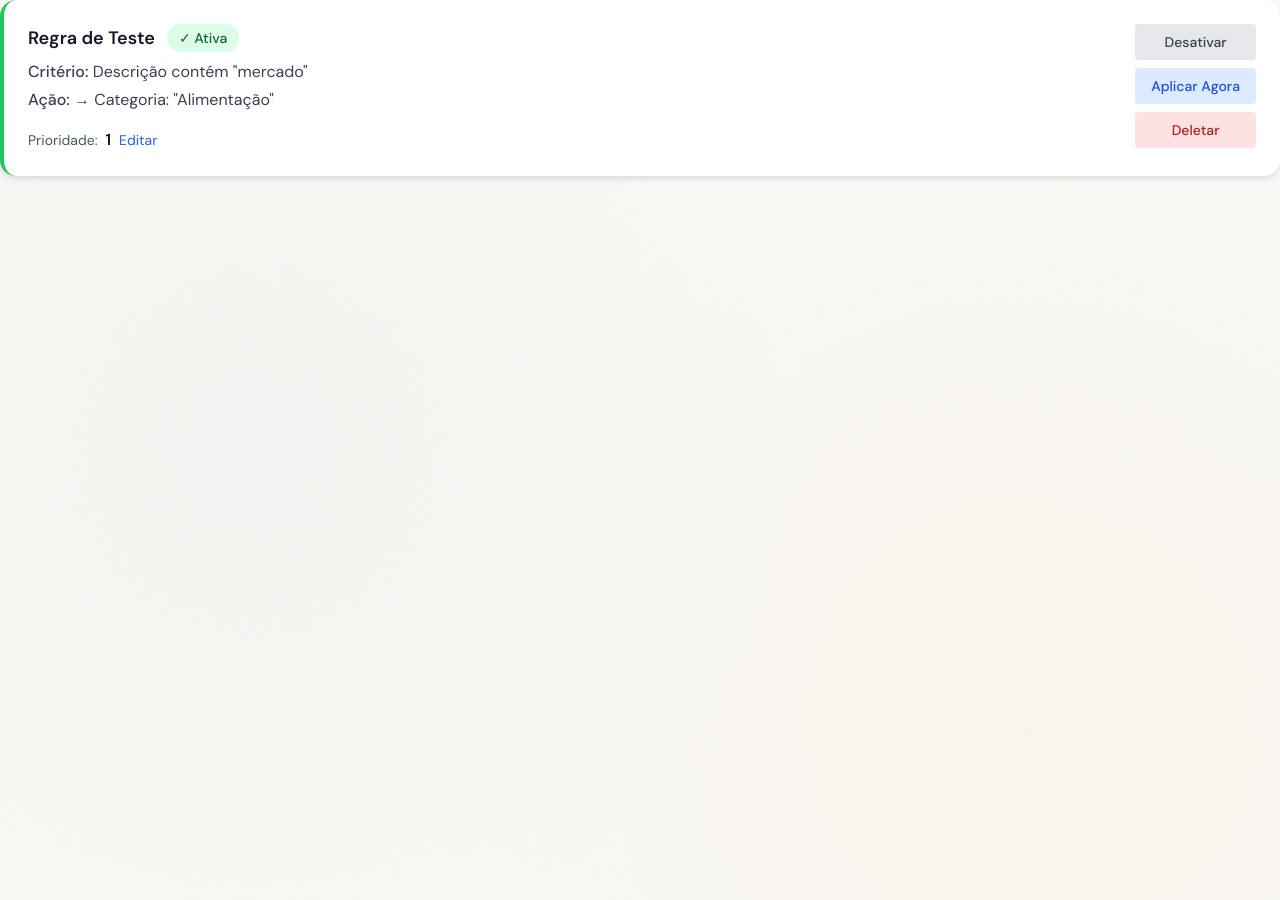
Scenario: ListaRegras › deve abrir modal ao clicar em aplicar
The image size is (1280, 900).
Click the button "Aplicar Agora" at (1196, 86), box [1135,68,1256,104]
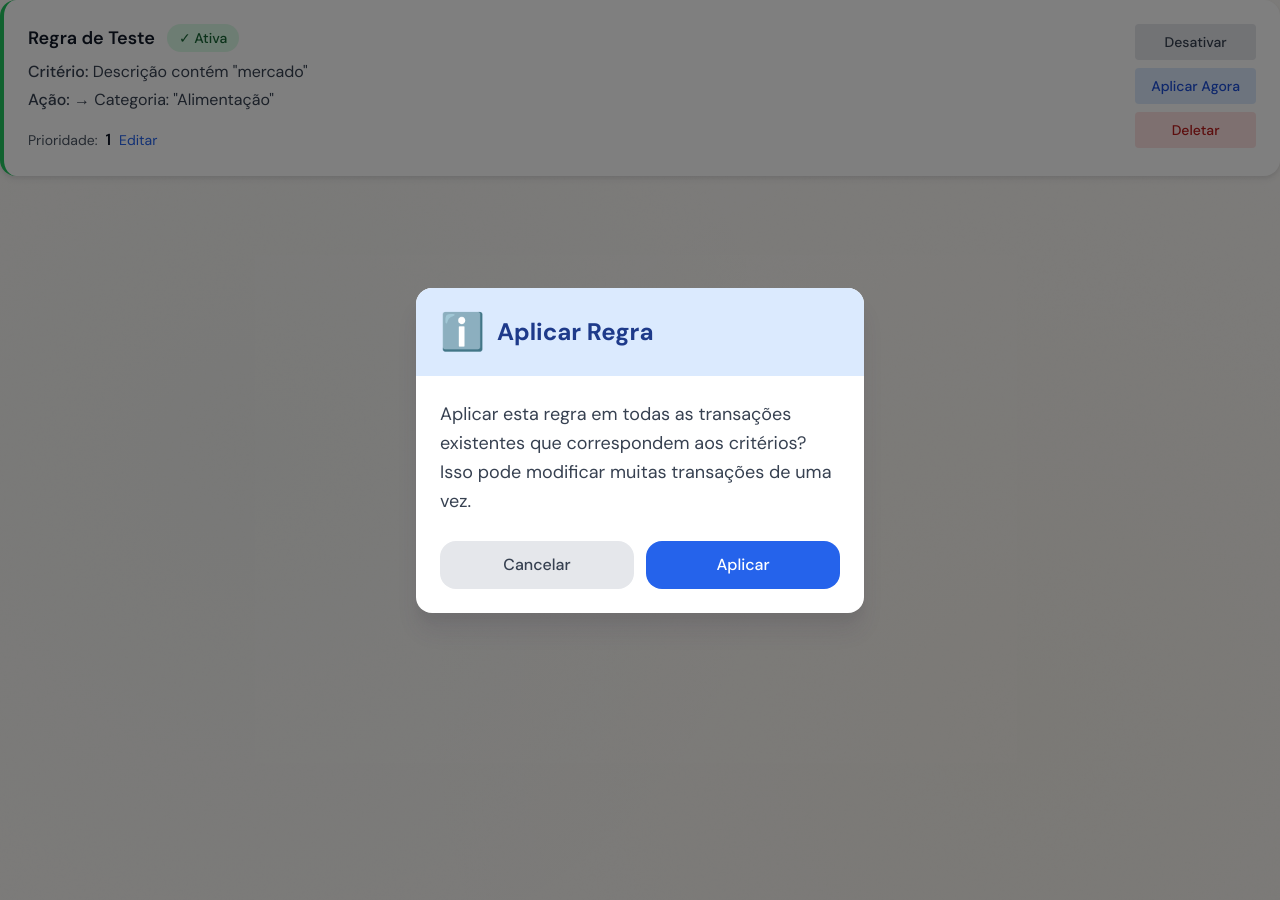
Now the heading "Aplicar Regra" is shown, box [497,316,654,348]
